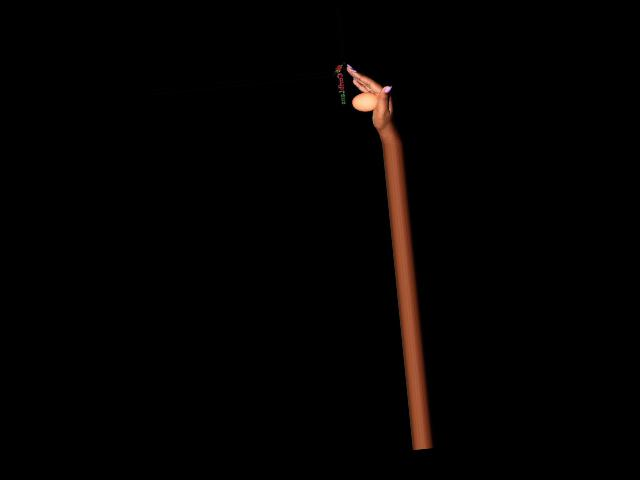egg: (351, 91, 378, 113)
